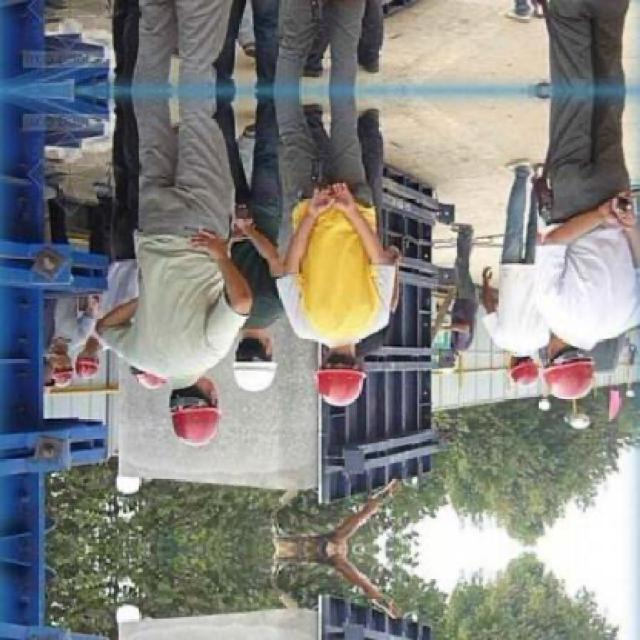con casco: (129, 343, 224, 468), (537, 314, 640, 404), (223, 307, 311, 405), (306, 321, 403, 405), (486, 339, 558, 407), (46, 340, 111, 390)
